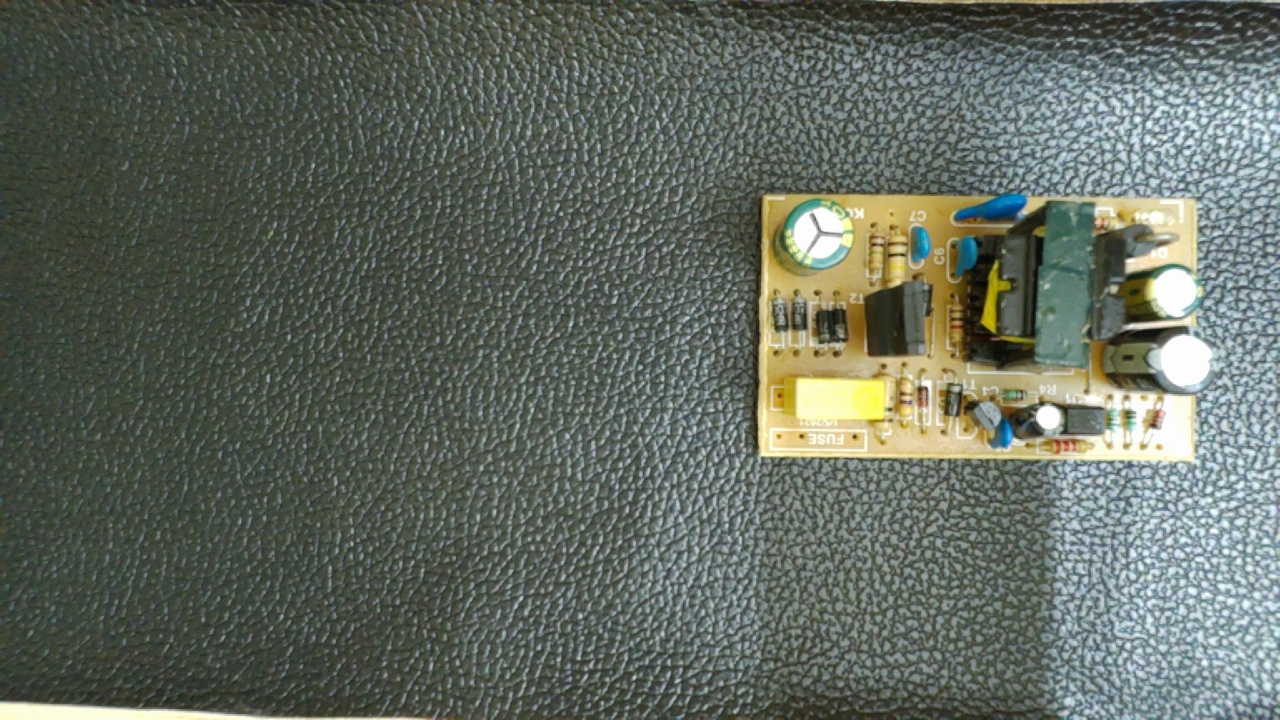hv_capacitor: (773, 195, 857, 275)
mov: (951, 194, 1038, 227)
optocoupler: (1059, 402, 1112, 441)
